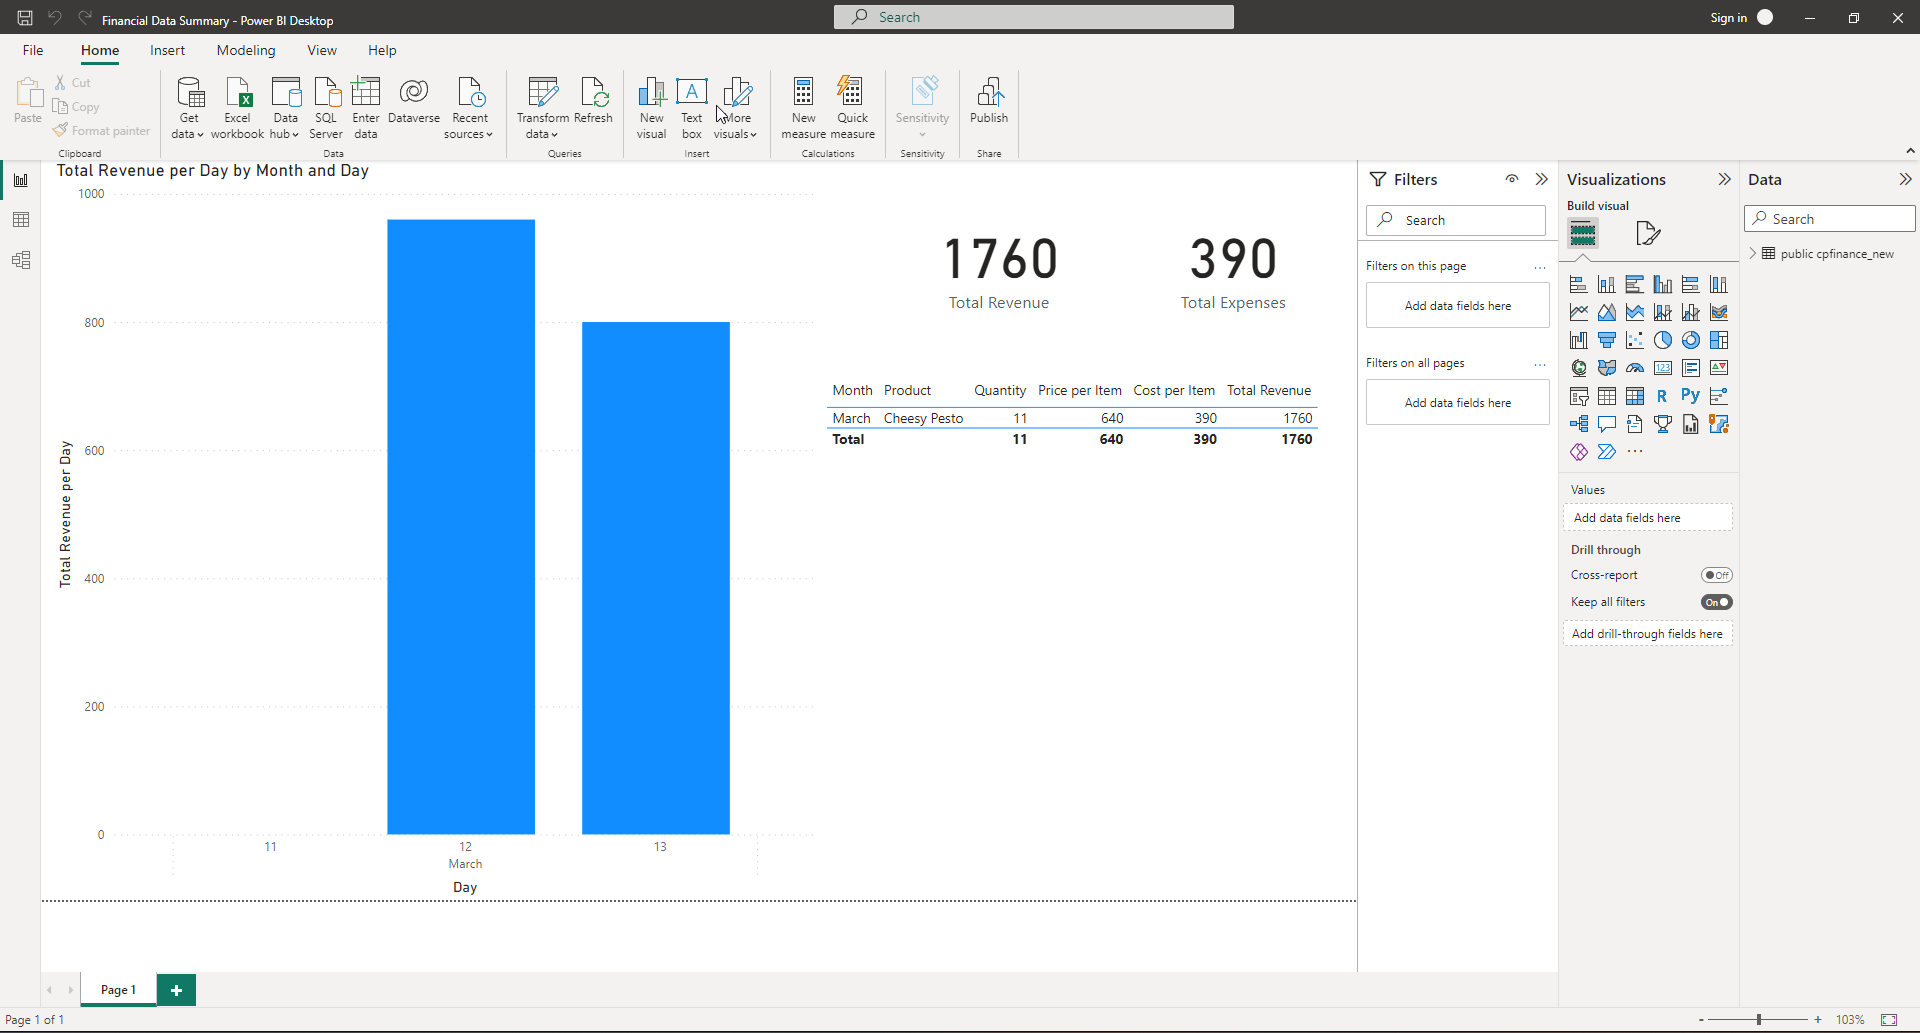

The dashboard page shown, as its layout file describes it:
{"tool":"powerbi","page":{"name":"Page 1","canvas":[1280,720],"ordinal":0},"visuals":[{"type":"columnChart","fields":{"Category":["public cpfinance_new.date_entered.Variation.Date Hierarchy.Month","public cpfinance_new.date_entered.Variation.Date Hierarchy.Day"],"Y":["Sum(public cpfinance_new.total_price)"]},"box":[9.7,0,748.9,719.8],"z":0},{"type":"card","fields":{"Values":["Sum(public cpfinance_new.total_price)"]},"box":[823.8,0,215.9,199.4],"z":1000},{"type":"tableEx","fields":{"Values":["public cpfinance_new.date_entered.Variation.Date Hierarchy.Month","public cpfinance_new.product","public cpfinance_new.quantity","public cpfinance_new.unit_price","public cpfinance_new.cost_price","public cpfinance_new.total_price"]},"box":[758.7,208.1,521.3,111.9],"z":2000},{"type":"card","fields":{"Values":["Sum(public cpfinance_new.cost_price)"]},"box":[1040,0,240,199],"z":3000}]}

Visuals, with their boxes on the page's 1280x720 design canvas (x1, y1, x2, y2). These are canvas units, not pixel positions in the 1920x1033 screenshot, which may show the page scaled, cropped or inside an application window:
columnChart - public cpfinance_new.date_entered.Variation.Date Hierarchy.Month x public cpfinance_new.date_entered.Variation.Date Hierarchy.Day: 10,0,759,720
card - Sum(public cpfinance_new.total_price): 824,0,1040,199
tableEx - public cpfinance_new.date_entered.Variation.Date Hierarchy.Month x public cpfinance_new.product: 759,208,1280,320
card - Sum(public cpfinance_new.cost_price): 1040,0,1280,199
